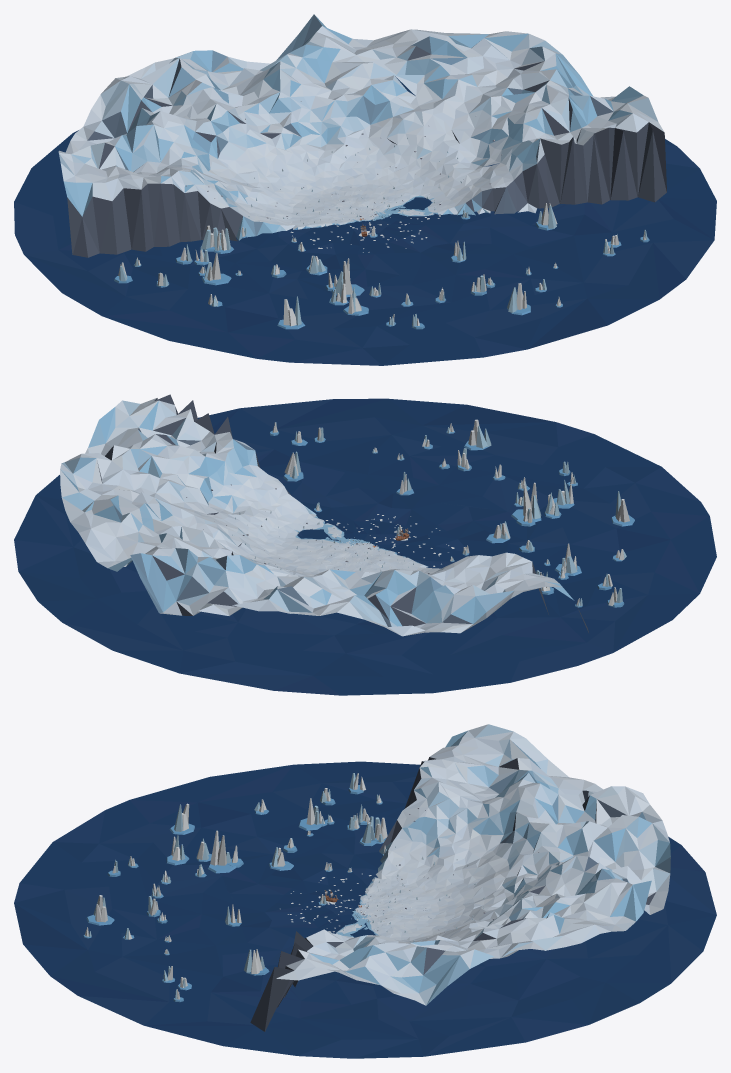
Rendered from world_arctic.glb.
3 views of the same model, one above another, from view 1: azimuth 30°, elevation 25°; view 2: azimuth 150°, elevation 25°; view 3: azimuth 270°, elevation 25° (orthographic).
Parts seen in each view (by area): view 1: Sector7, Sector3, Sector1, Sector5, Sector4, Sector2, Sector0, Sector6; view 2: Sector5, Sector6, Sector1, Sector7, Sector4, Sector2, Sector0, Sector3; view 3: Sector5, Sector4, Sector1, Sector3, Sector6, Sector2, Sector7, Sector0.
Part boxes in pixels (x1=…): Sector7: x1=14, y1=124, x2=365, y2=296; Sector3: x1=366, y1=86, x2=716, y2=253; Sector1: x1=257, y1=216, x2=541, y2=365; Sector5: x1=211, y1=14, x2=447, y2=216; Sector4: x1=366, y1=31, x2=676, y2=216; Sector2: x1=366, y1=216, x2=714, y2=349; Sector0: x1=62, y1=216, x2=364, y2=358; Sector6: x1=31, y1=50, x2=364, y2=216; Sector5: x1=18, y1=505, x2=364, y2=673; Sector6: x1=180, y1=547, x2=452, y2=695; Sector1: x1=366, y1=422, x2=709, y2=546; Sector7: x1=366, y1=547, x2=672, y2=693; Sector4: x1=14, y1=420, x2=364, y2=578; Sector2: x1=240, y1=398, x2=554, y2=546; Sector0: x1=367, y1=491, x2=716, y2=619; Sector3: x1=99, y1=394, x2=365, y2=546; Sector5: x1=366, y1=855, x2=716, y2=1024; Sector4: x1=299, y1=910, x2=588, y2=1058; Sector1: x1=14, y1=800, x2=364, y2=924; Sector3: x1=144, y1=910, x2=418, y2=1058; Sector6: x1=366, y1=773, x2=716, y2=914; Sector2: x1=14, y1=895, x2=364, y2=1025; Sector7: x1=322, y1=724, x2=583, y2=909; Sector0: x1=130, y1=761, x2=375, y2=909.
Bounding box in the file's own units: 1520 × 180 × 1519.
